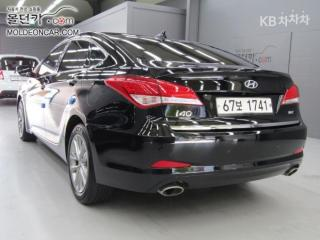1: (263, 99, 269, 111), (246, 100, 252, 111)
4: (258, 100, 264, 111)
6: (222, 99, 229, 112)
7: (252, 98, 259, 112), (229, 99, 235, 111)
plate: (212, 92, 275, 118)
보: (235, 100, 245, 111)
